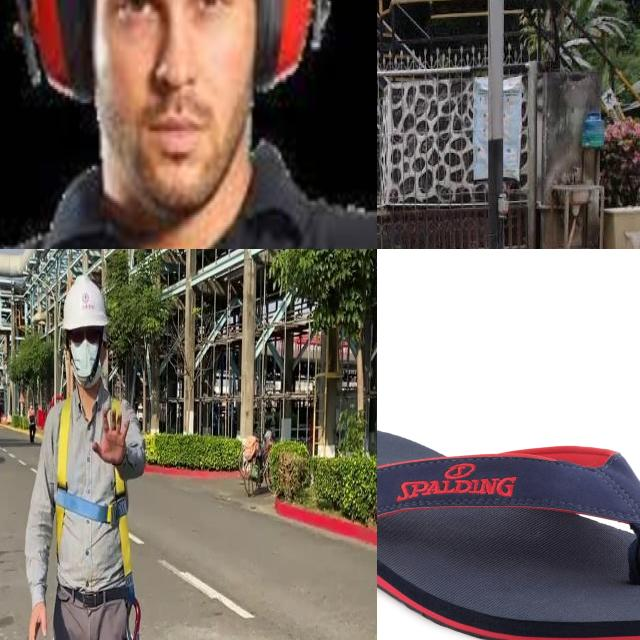Ear-protection: (15, 0, 327, 224)
Harness: (54, 397, 132, 578), (127, 597, 142, 640)
No_Glasses: (99, 0, 247, 56)
Sandals: (377, 425, 640, 640)
